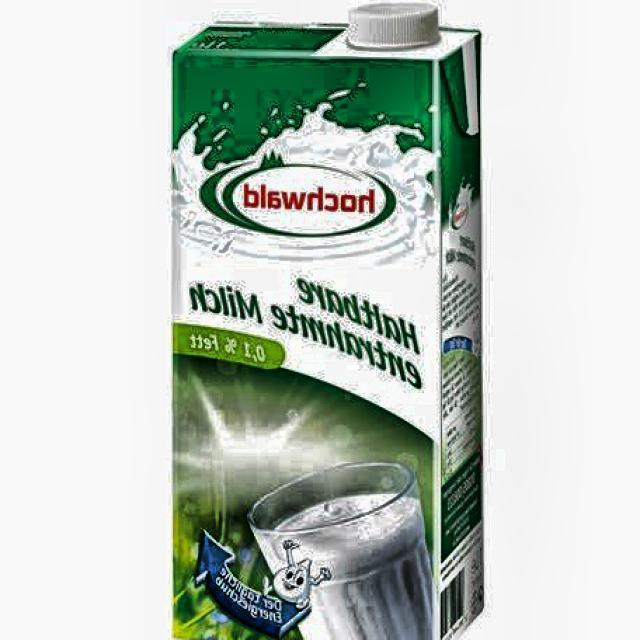cardboard: (171, 3, 487, 640)
